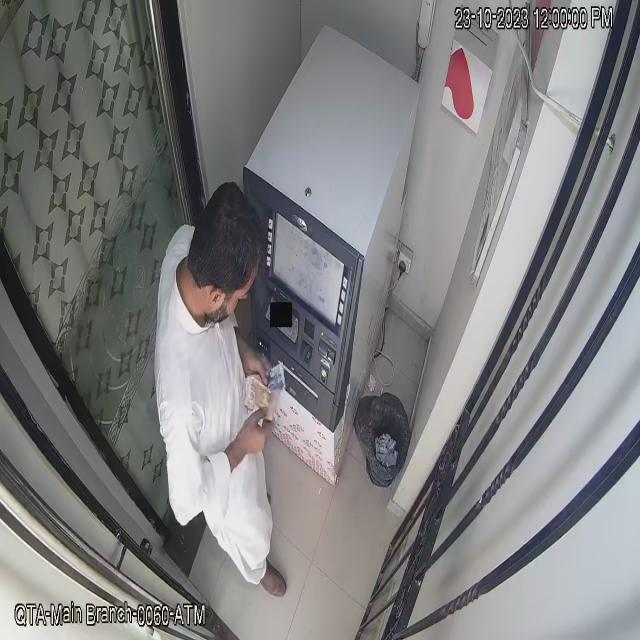note: (242, 358, 290, 421)
